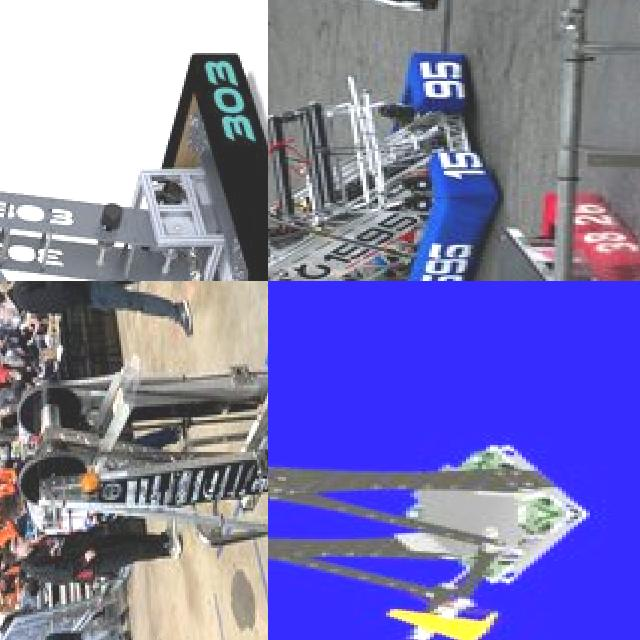FRC-Robots: (0, 281, 268, 610), (268, 427, 597, 640), (0, 46, 268, 281), (268, 40, 488, 281), (421, 184, 640, 281)
